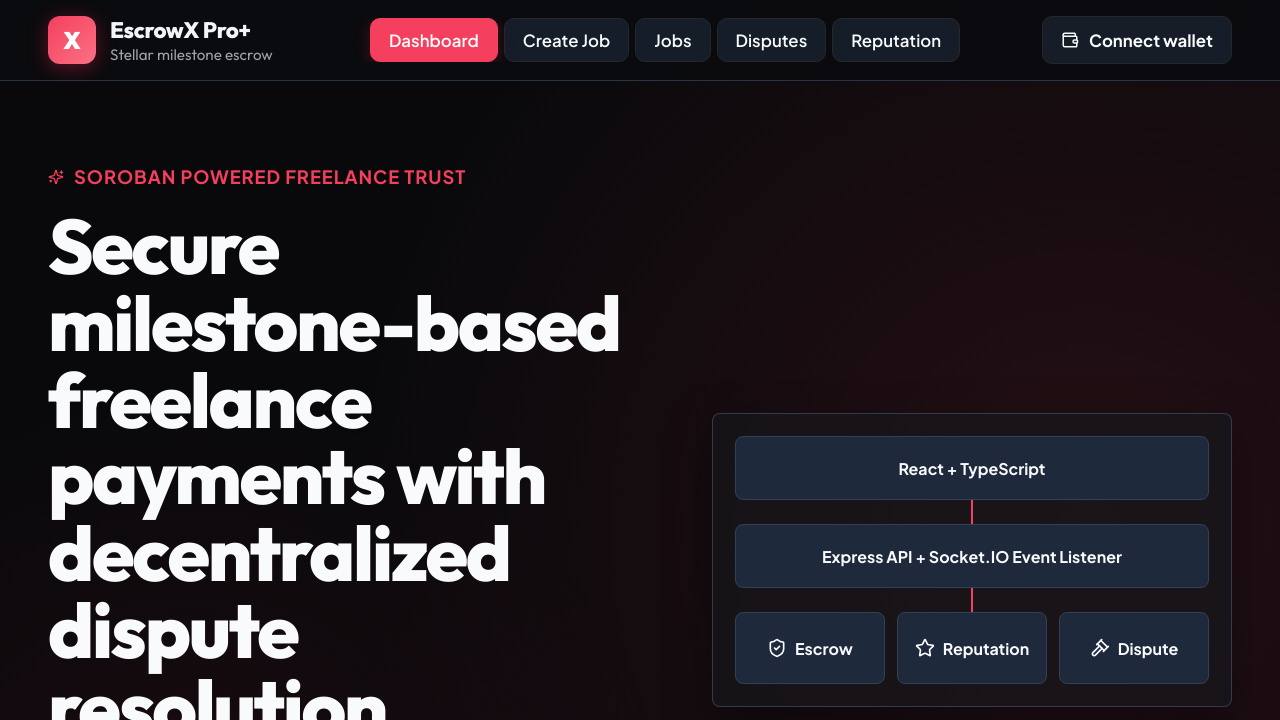
Test case: EscrowX Pro+ frontend › shows wallet connection state
Click the button "Connect wallet" at (1137, 40), box [1042, 16, 1232, 64]
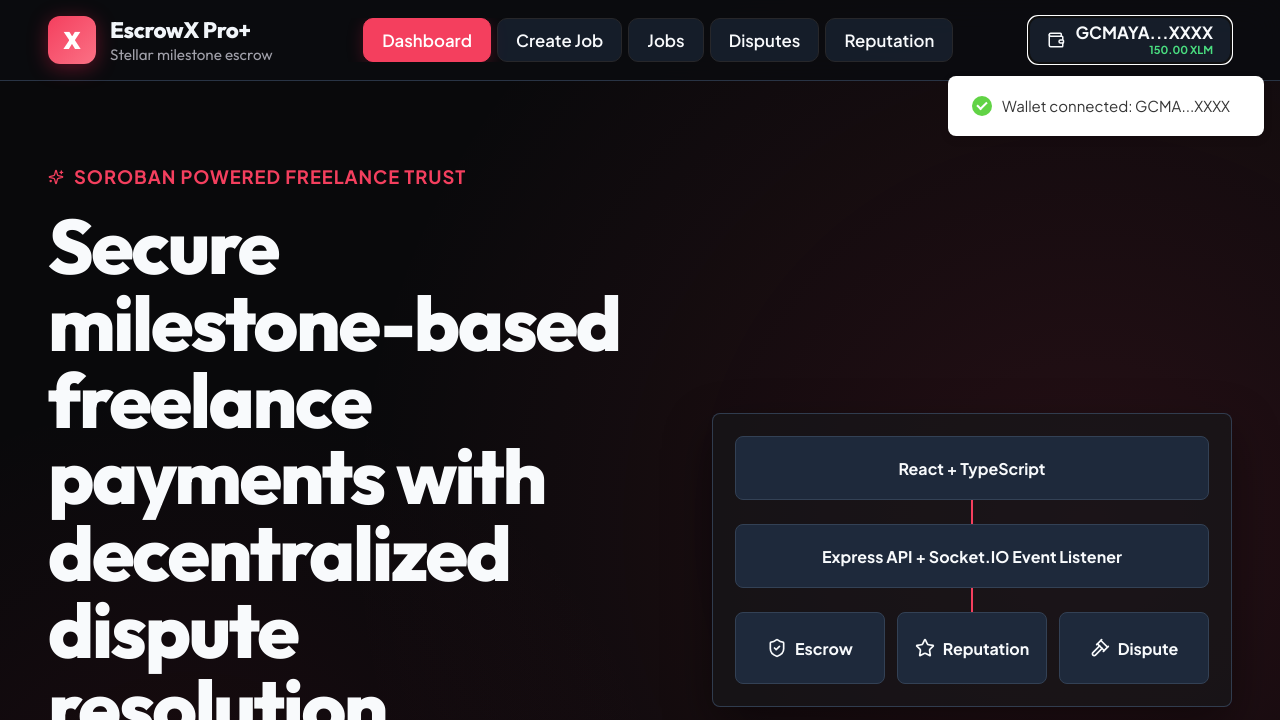
Expected: the button "GCMAYA...XXXX 150.00 XLM" is shown, [1028, 16, 1232, 64]
